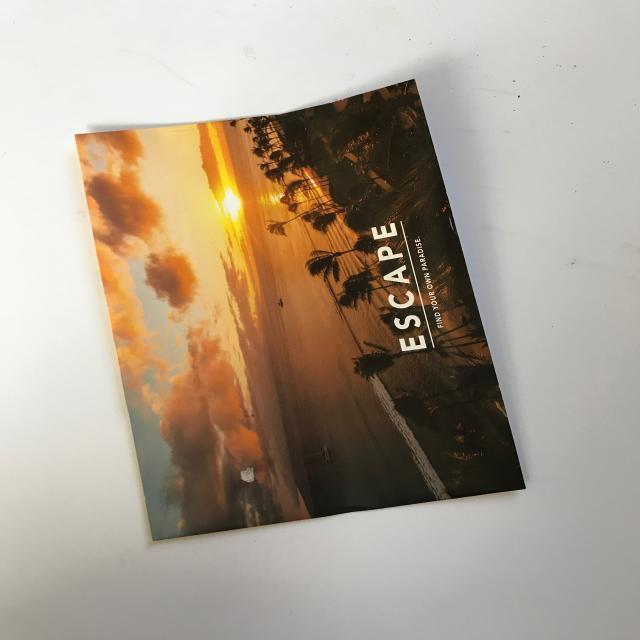paper: (75, 80, 528, 542)
